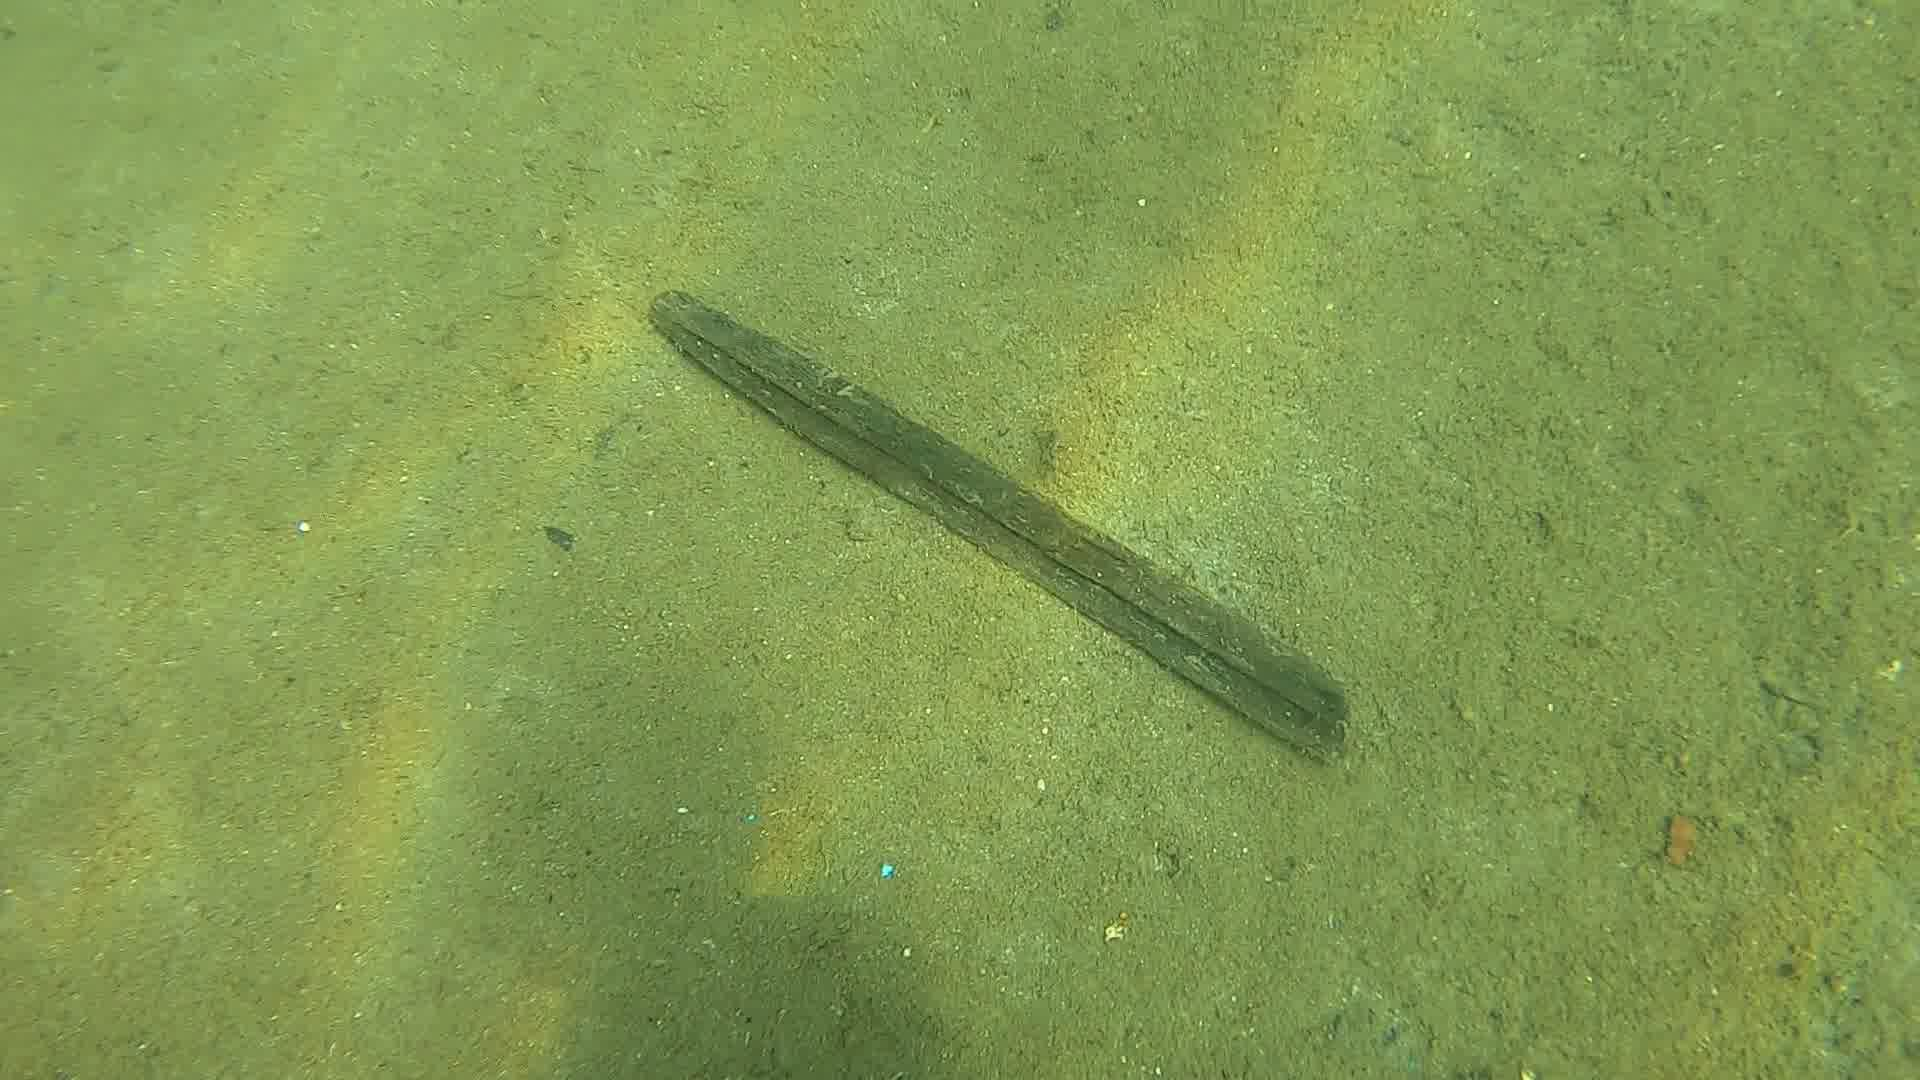wood: (644, 286, 1356, 761)
